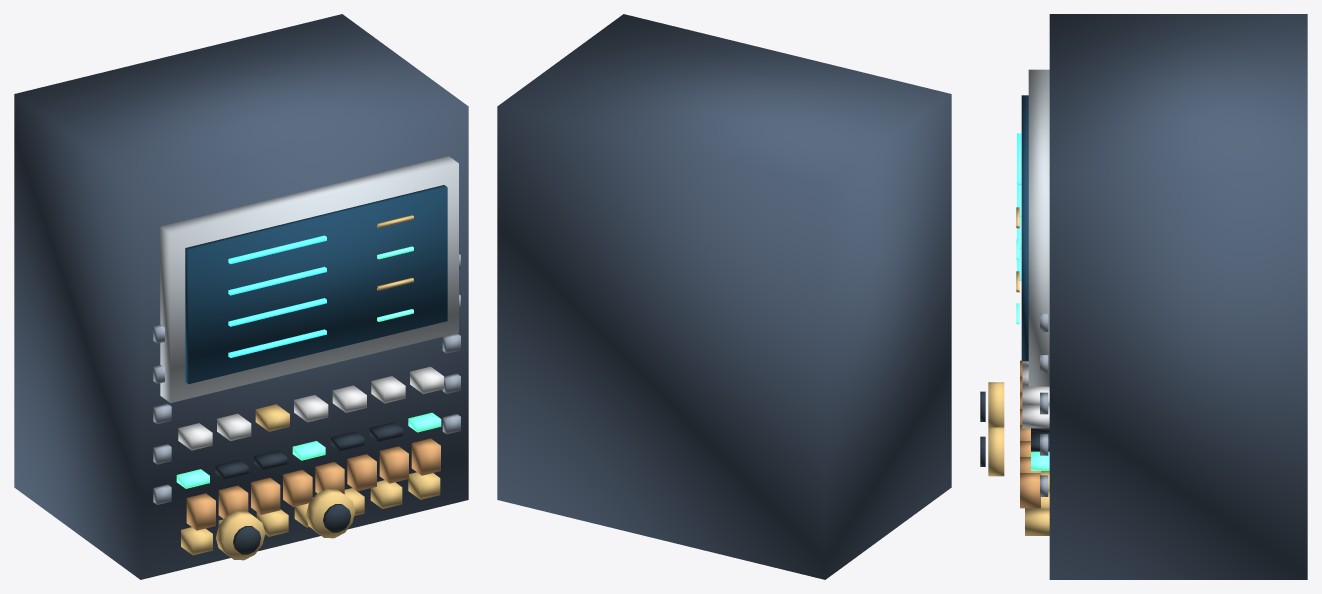
The model's file is 75_L90_Regulated5VControlSupply.fbx.
3 views of the same model, side by side, from view 1: azimuth 30°, elevation 25°; view 2: azimuth 150°, elevation 25°; view 3: azimuth 270°, elevation 25° (orthographic). The views are drawn at different scales.
Parts seen in each view (by area): view 1: L90_Regulated5VControlSupply, L90_Regulated5VControlSupply_Part_0012, L90_Regulated5VControlSupply_Part_0010, L90_Regulated5VControlSupply_Part_0011, L90_Regulated5VControlSupply_Part_0013; view 2: L90_Regulated5VControlSupply; view 3: L90_Regulated5VControlSupply, L90_Regulated5VControlSupply_Part_0012, L90_Regulated5VControlSupply_Part_0010.
Part boxes in pixels (<box>): L90_Regulated5VControlSupply: <box>14,14,468,579</box>; L90_Regulated5VControlSupply_Part_0012: <box>306,489,355,538</box>; L90_Regulated5VControlSupply_Part_0010: <box>216,511,265,560</box>; L90_Regulated5VControlSupply_Part_0011: <box>233,526,260,554</box>; L90_Regulated5VControlSupply_Part_0013: <box>323,504,350,532</box>; L90_Regulated5VControlSupply: <box>497,14,951,579</box>; L90_Regulated5VControlSupply: <box>1016,14,1307,579</box>; L90_Regulated5VControlSupply_Part_0012: <box>988,427,1004,476</box>; L90_Regulated5VControlSupply_Part_0010: <box>988,382,1004,427</box>.
Bounding box in the file's own units: 1.02 × 1.17 × 0.862.
